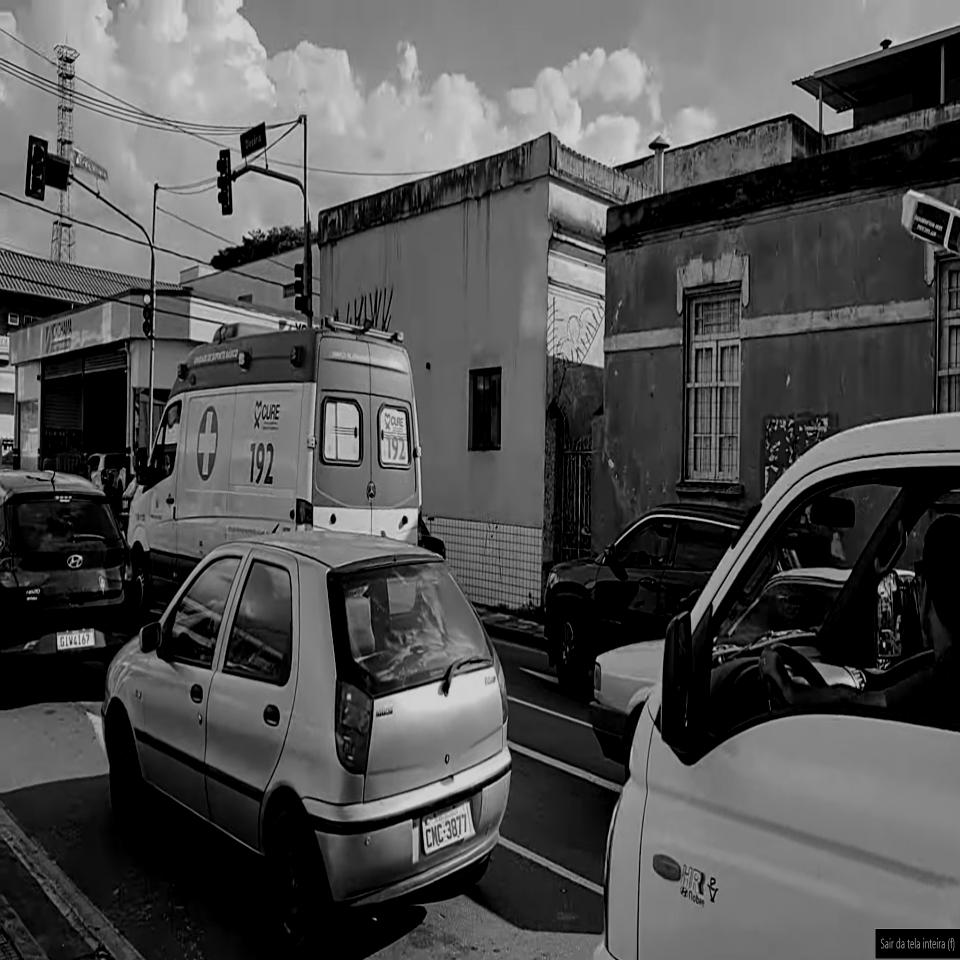ambulancia: (126, 312, 423, 622)
